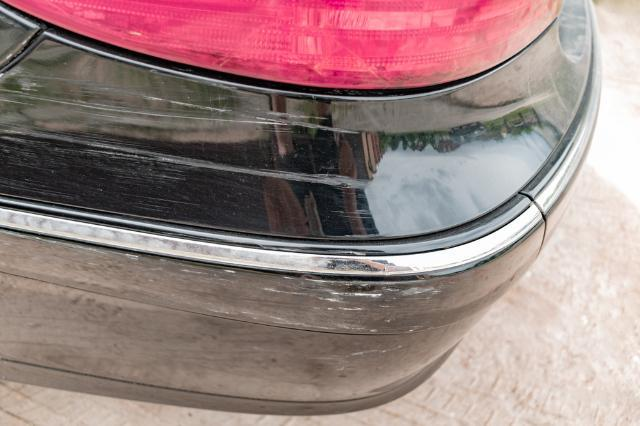scratch: (0, 68, 392, 241), (0, 230, 462, 372)
